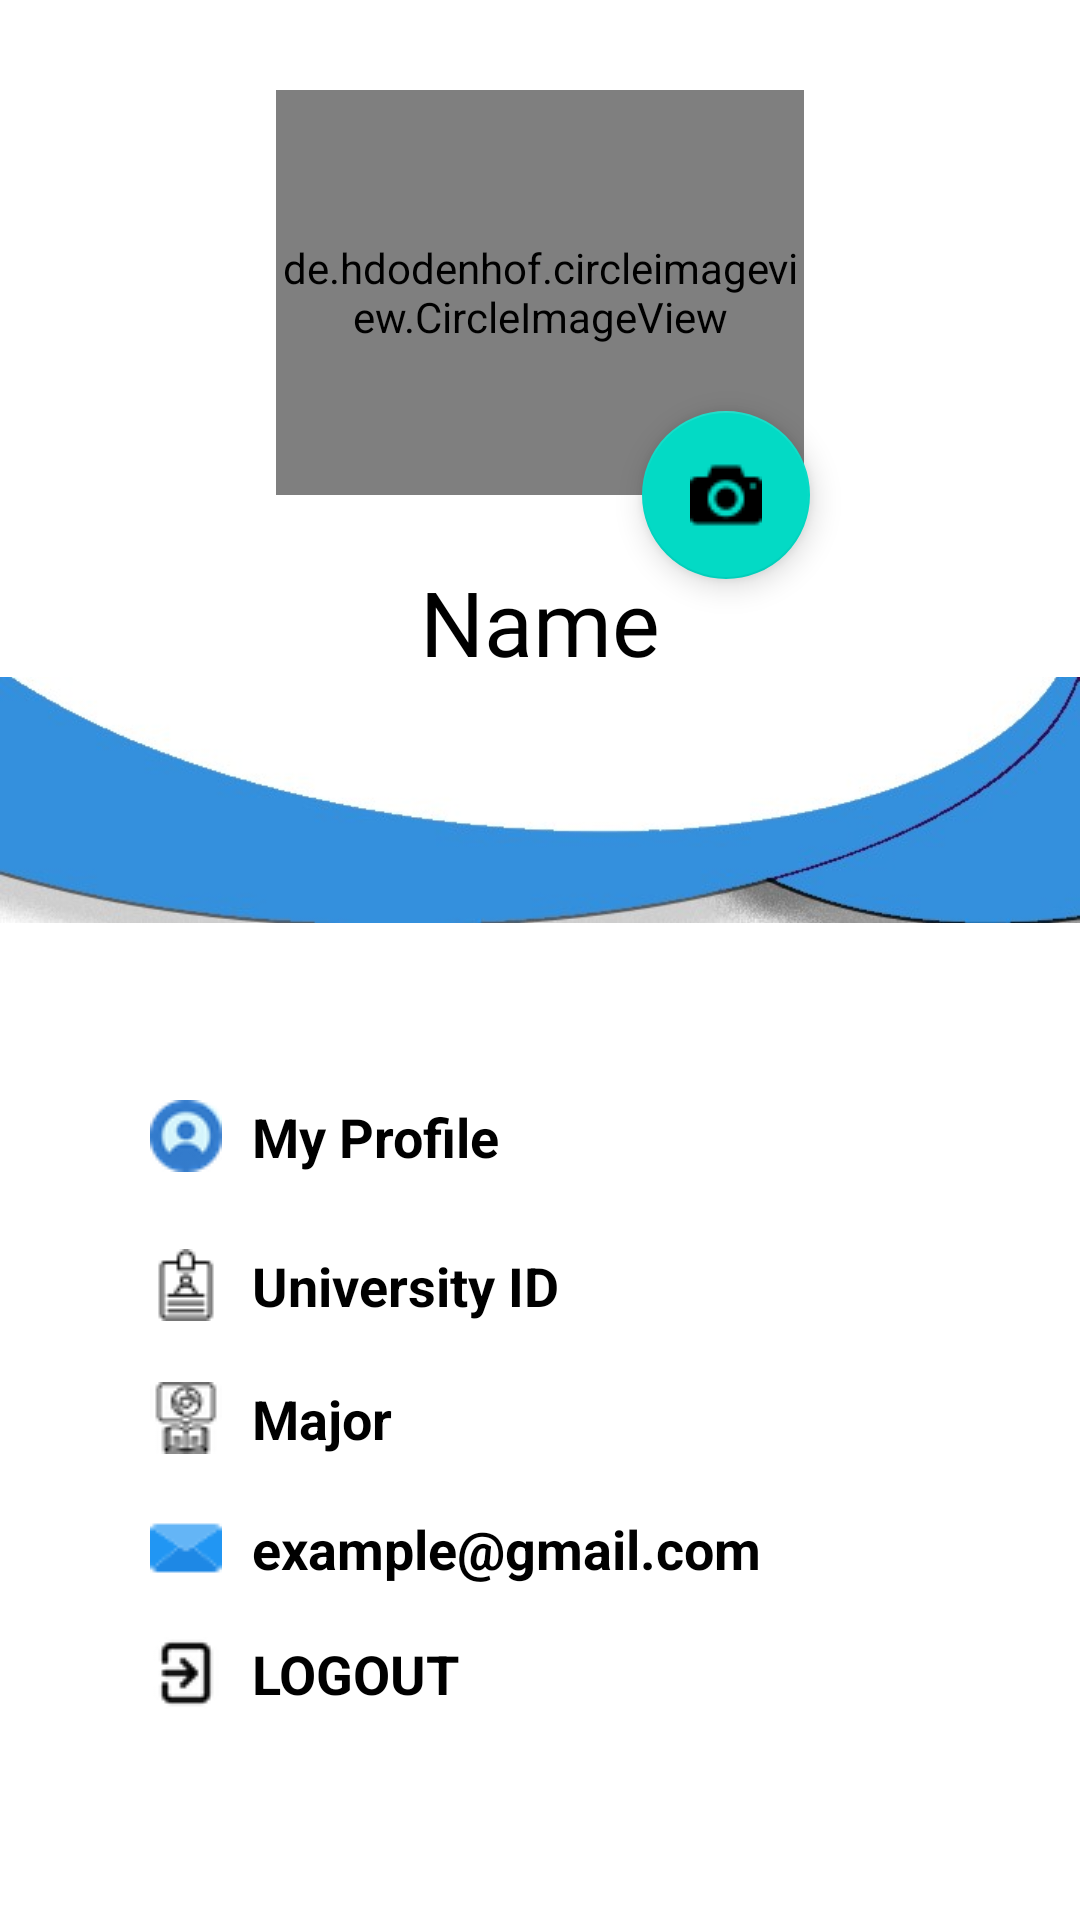

Icons on this 1080 x 1920 Android screen, each with the point to tap as (x=x, y=y):
camera: (x=726, y=495)
